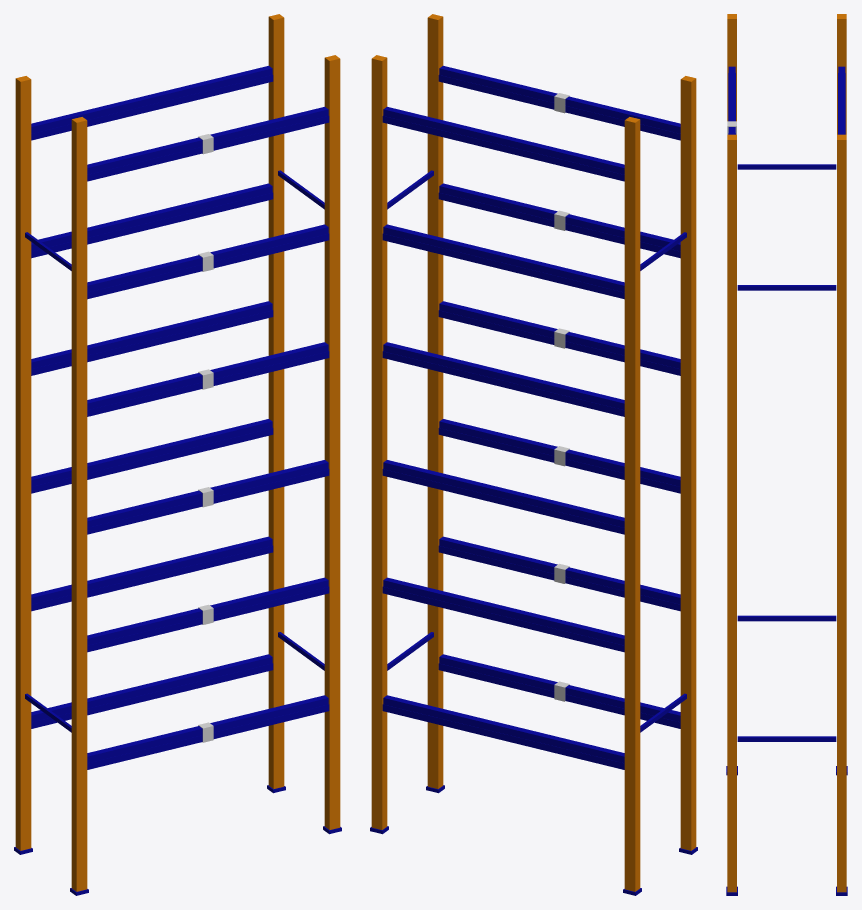
Rendered from high-duty-C25-6.glb.
3 views of the same model, side by side, from view 1: azimuth 30°, elevation 25°; view 2: azimuth 150°, elevation 25°; view 3: azimuth 270°, elevation 25° (orthographic). The views are drawn at different scales.
Visible parts, largest first — view 1: part_0, part_4, part_2, part_6, part_35, part_13, part_18, part_8, part_28, part_33, part_23, part_15 (+16 smaller); view 2: part_4, part_0, part_6, part_2, part_15, part_20, part_10, part_35, part_25, part_30, part_33, part_13 (+16 smaller); view 3: part_2, part_6, part_4, part_0, part_38, part_39, part_40, part_41, part_35, part_33.
Part boxes in pixels (x1=…): part_0: x1=71, y1=117, x2=87, y2=891; part_4: x1=15, y1=76, x2=31, y2=850; part_2: x1=324, y1=55, x2=340, y2=829; part_6: x1=268, y1=14, x2=284, y2=788; part_35: x1=31, y1=65, x2=272, y2=133; part_13: x1=87, y1=577, x2=328, y2=645; part_18: x1=87, y1=460, x2=328, y2=527; part_8: x1=87, y1=695, x2=328, y2=763; part_28: x1=87, y1=224, x2=328, y2=292; part_33: x1=87, y1=106, x2=328, y2=174; part_23: x1=87, y1=342, x2=328, y2=409; part_15: x1=31, y1=536, x2=272, y2=604; part_4: x1=624, y1=117, x2=640, y2=891; part_0: x1=680, y1=76, x2=696, y2=850; part_6: x1=371, y1=55, x2=387, y2=829; part_2: x1=427, y1=14, x2=443, y2=788; part_15: x1=383, y1=577, x2=624, y2=645; part_20: x1=383, y1=460, x2=624, y2=527; part_10: x1=383, y1=695, x2=624, y2=763; part_35: x1=383, y1=106, x2=624, y2=174; part_25: x1=383, y1=342, x2=624, y2=409; part_30: x1=383, y1=224, x2=624, y2=292; part_33: x1=439, y1=65, x2=680, y2=133; part_13: x1=439, y1=536, x2=680, y2=604; part_2: x1=727, y1=134, x2=736, y2=892; part_6: x1=837, y1=134, x2=846, y2=892; part_4: x1=837, y1=14, x2=846, y2=134; part_0: x1=727, y1=14, x2=736, y2=121; part_38: x1=737, y1=615, x2=836, y2=621; part_39: x1=737, y1=164, x2=836, y2=169; part_40: x1=737, y1=736, x2=836, y2=741; part_41: x1=737, y1=285, x2=836, y2=290; part_35: x1=838, y1=66, x2=845, y2=134; part_33: x1=728, y1=66, x2=735, y2=134.
Bounding box in the file's own units: 2520 × 7000 × 1020.
